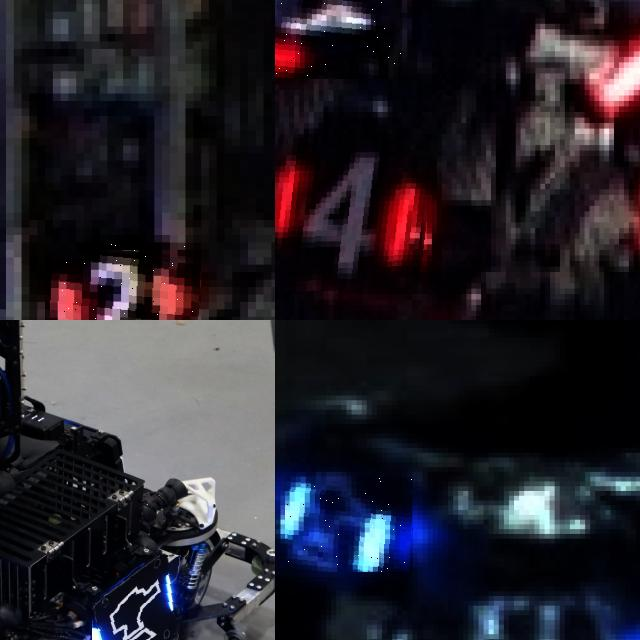Bs: (285, 477, 413, 572), (92, 555, 187, 640)
R2: (45, 242, 201, 320)
R4: (275, 134, 436, 294), (275, 0, 402, 79)
